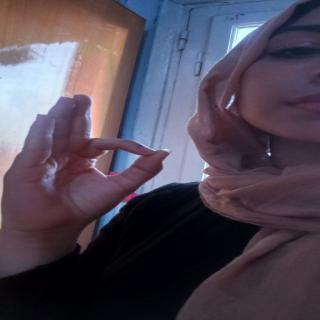Space: (11, 91, 185, 235)
